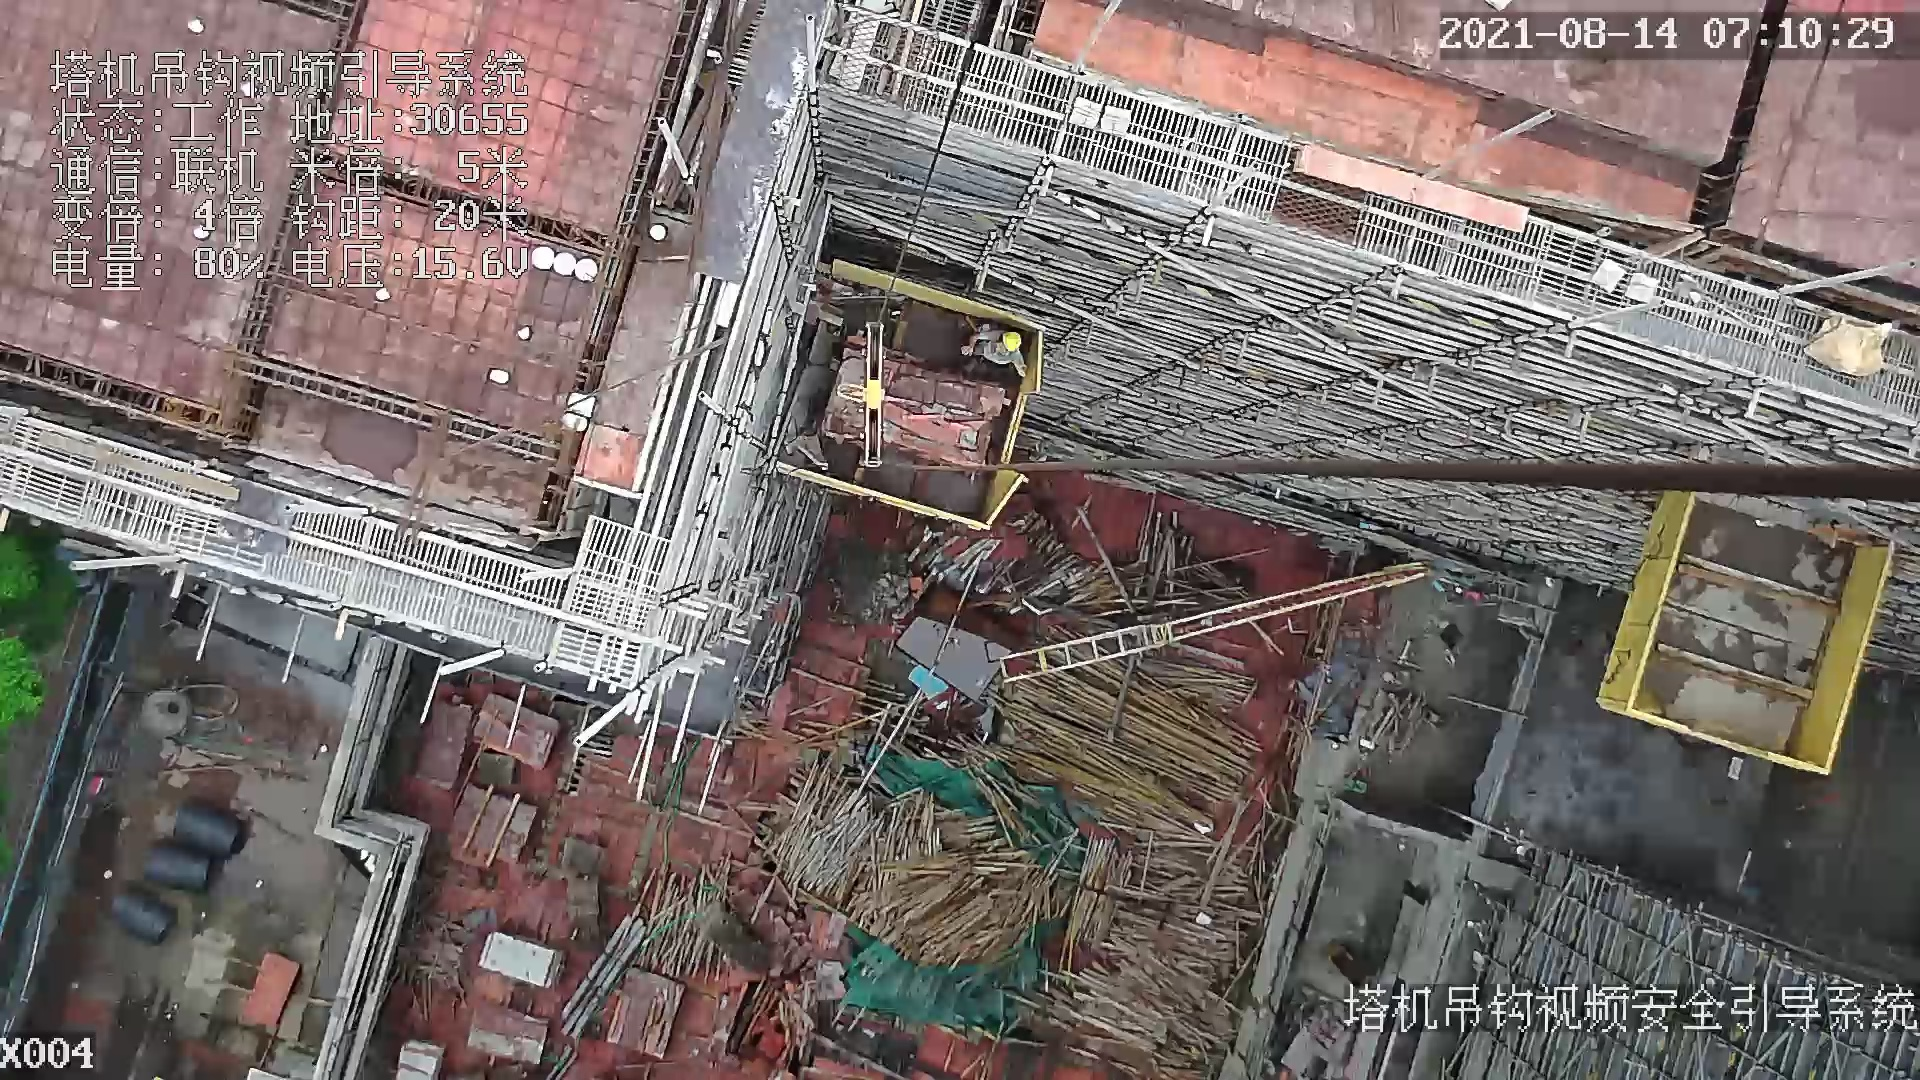helmet: (1000, 331, 1023, 353)
hook: (836, 315, 890, 472)
person: (965, 330, 1031, 382)
